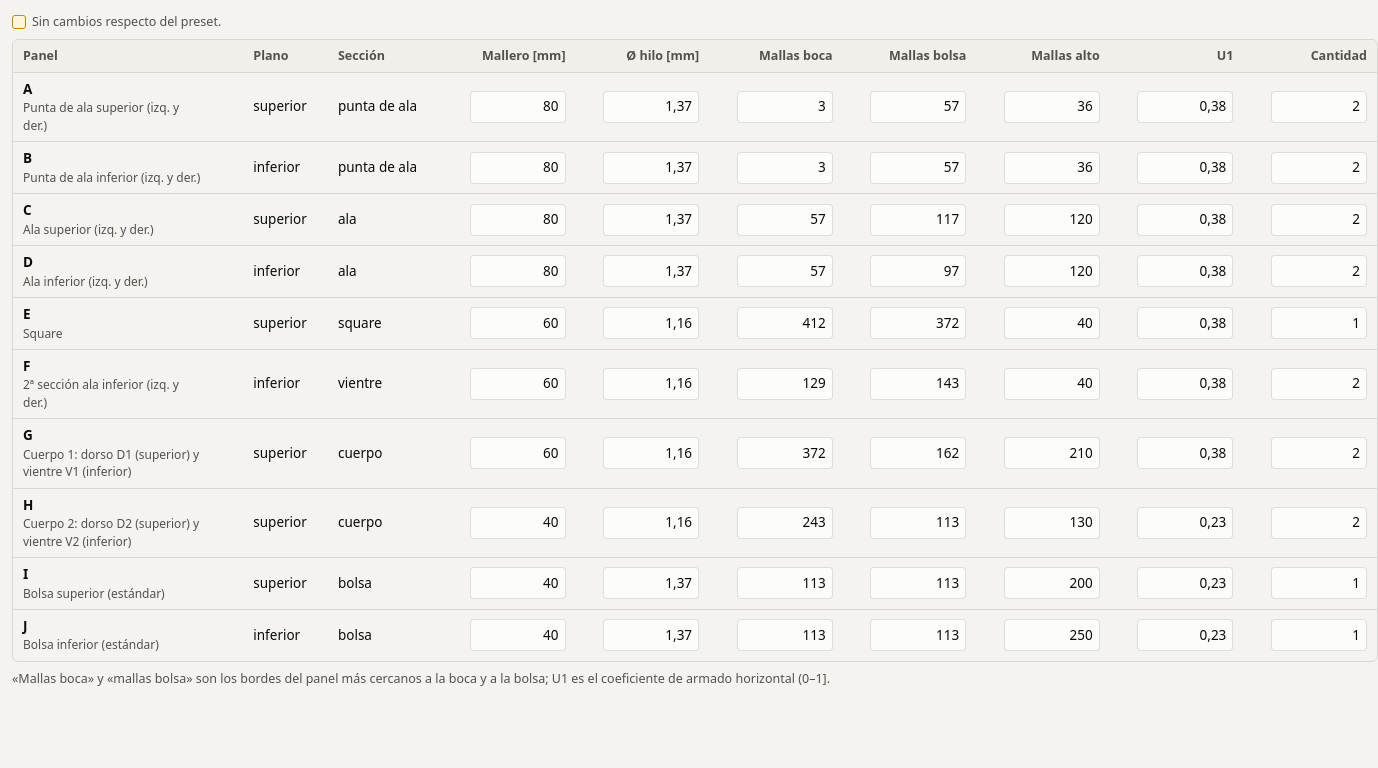
<PanelTable> › marca celdas editadas e inválidas
Step 1. Clear the field named "Mallas de alto (N) del panel C" → (1052, 220), box [1004,204,1100,236]
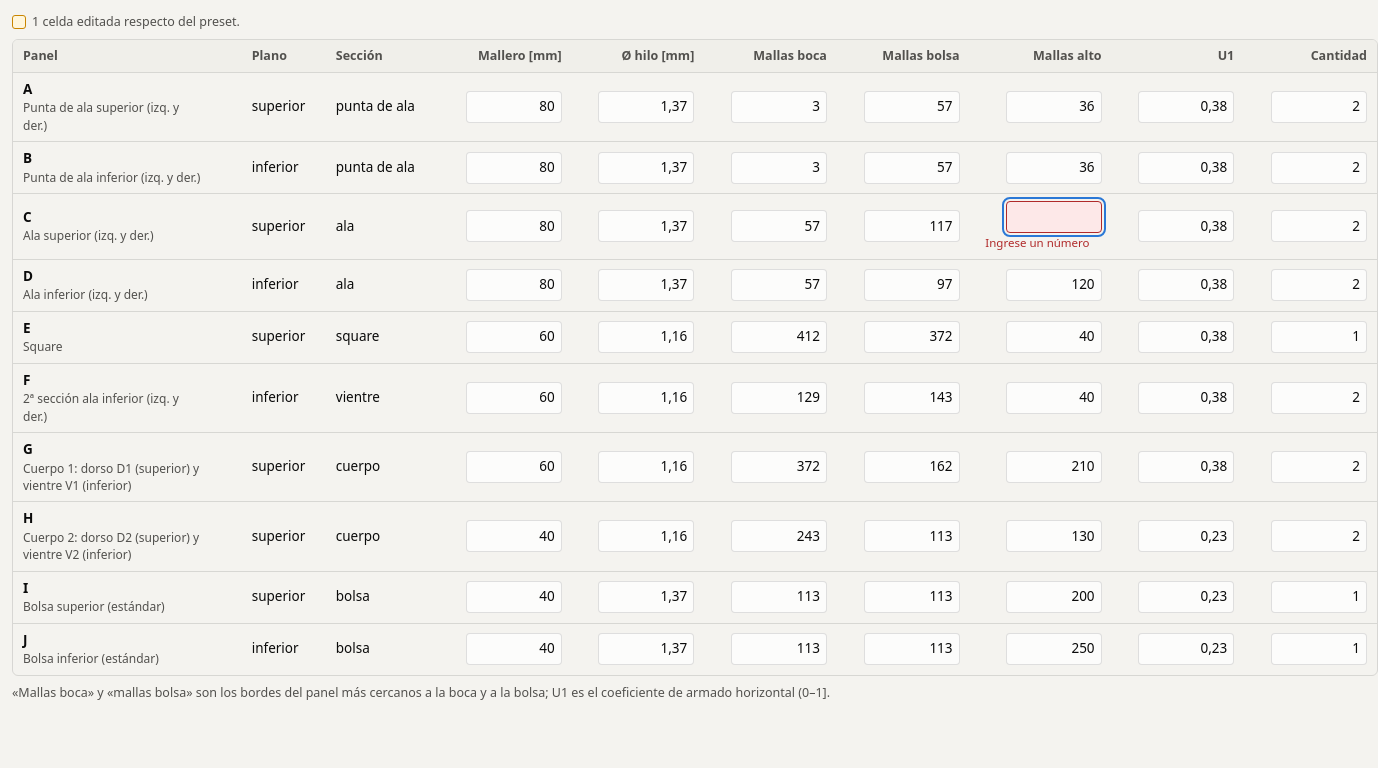
Step 2. Type "140" into the field named "Mallas de alto (N) del panel C" → (1054, 217), box [1006,201,1102,233]
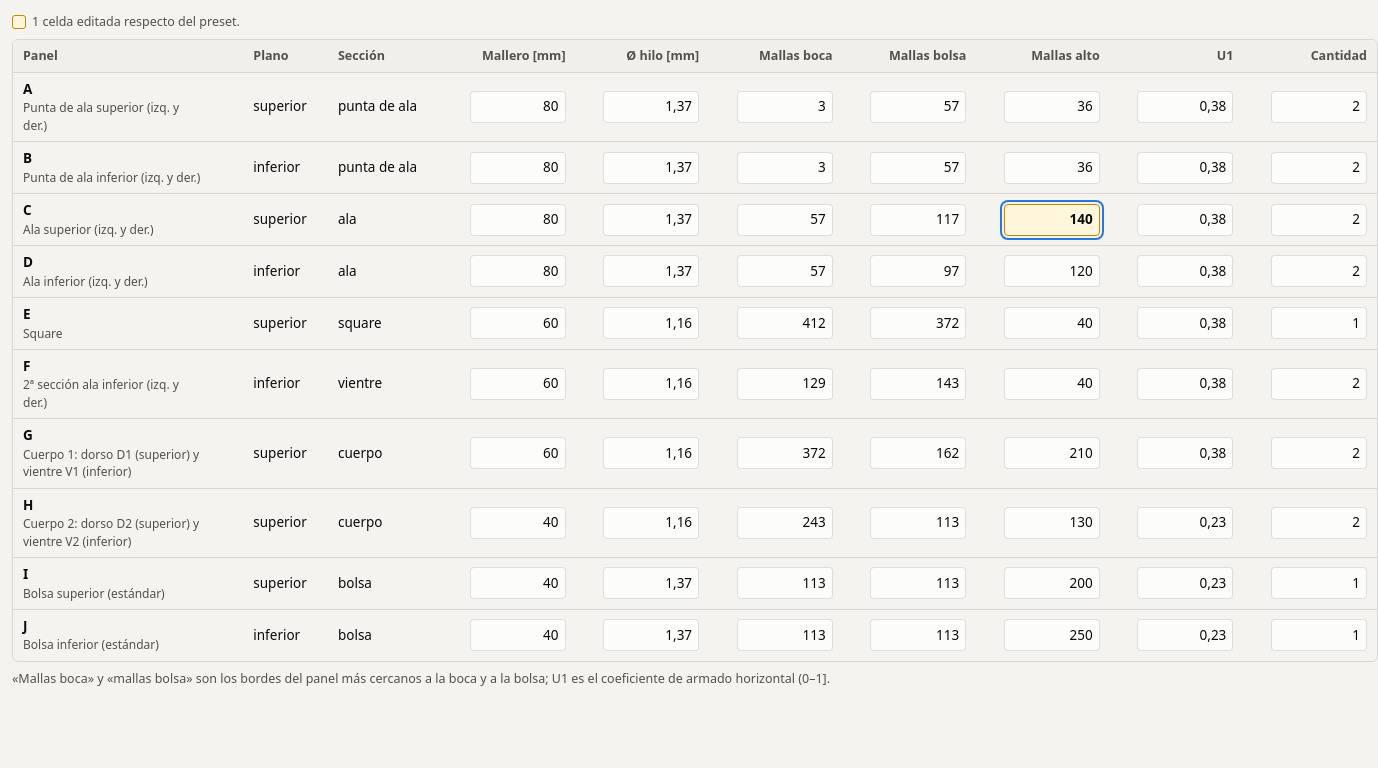
Now the text "1 celda editada respecto del preset." is shown, box [12,12,240,31]
Step 3. Clear the field named "Mallas de alto (N) del panel C" → (1052, 220), box [1004,204,1100,236]
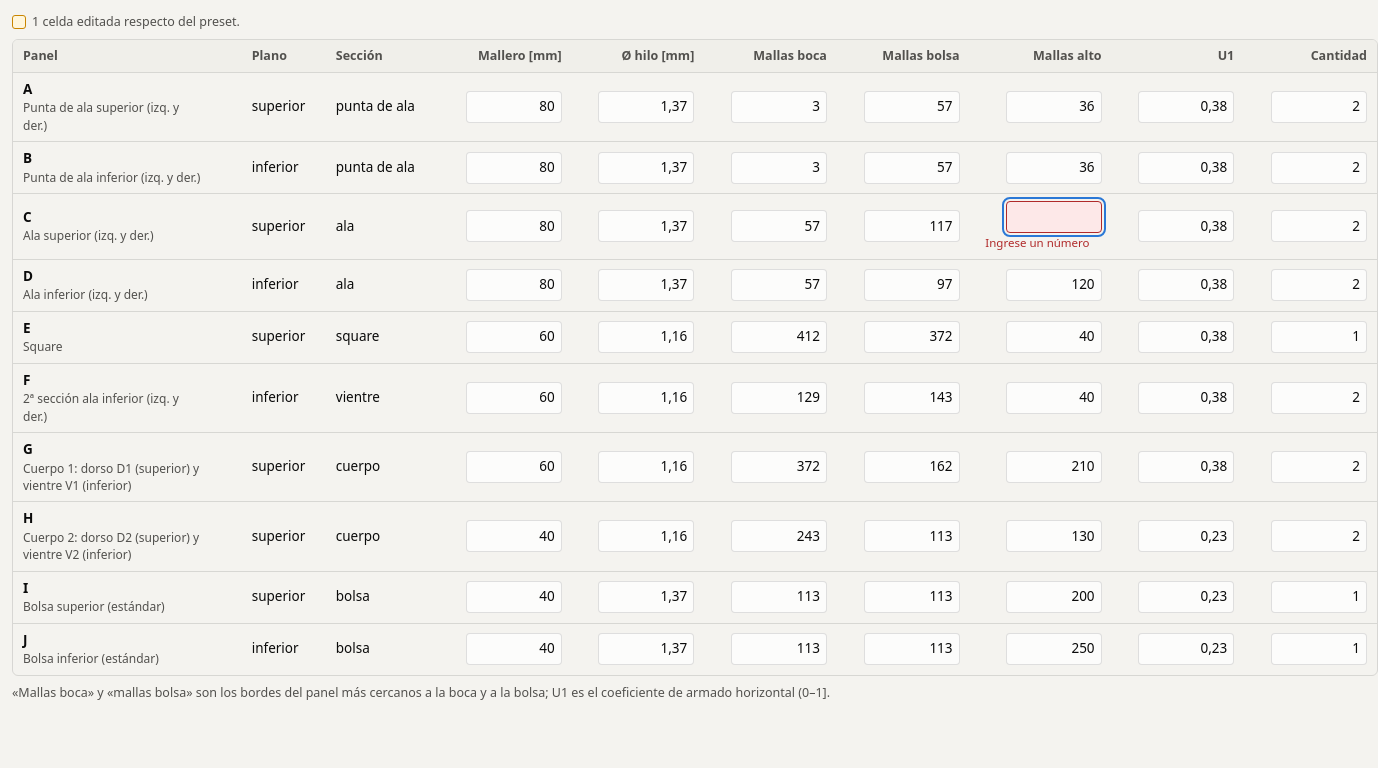
Step 4. Type "14,5" into the field named "Mallas de alto (N) del panel C" → (1054, 217), box [1006,201,1102,233]
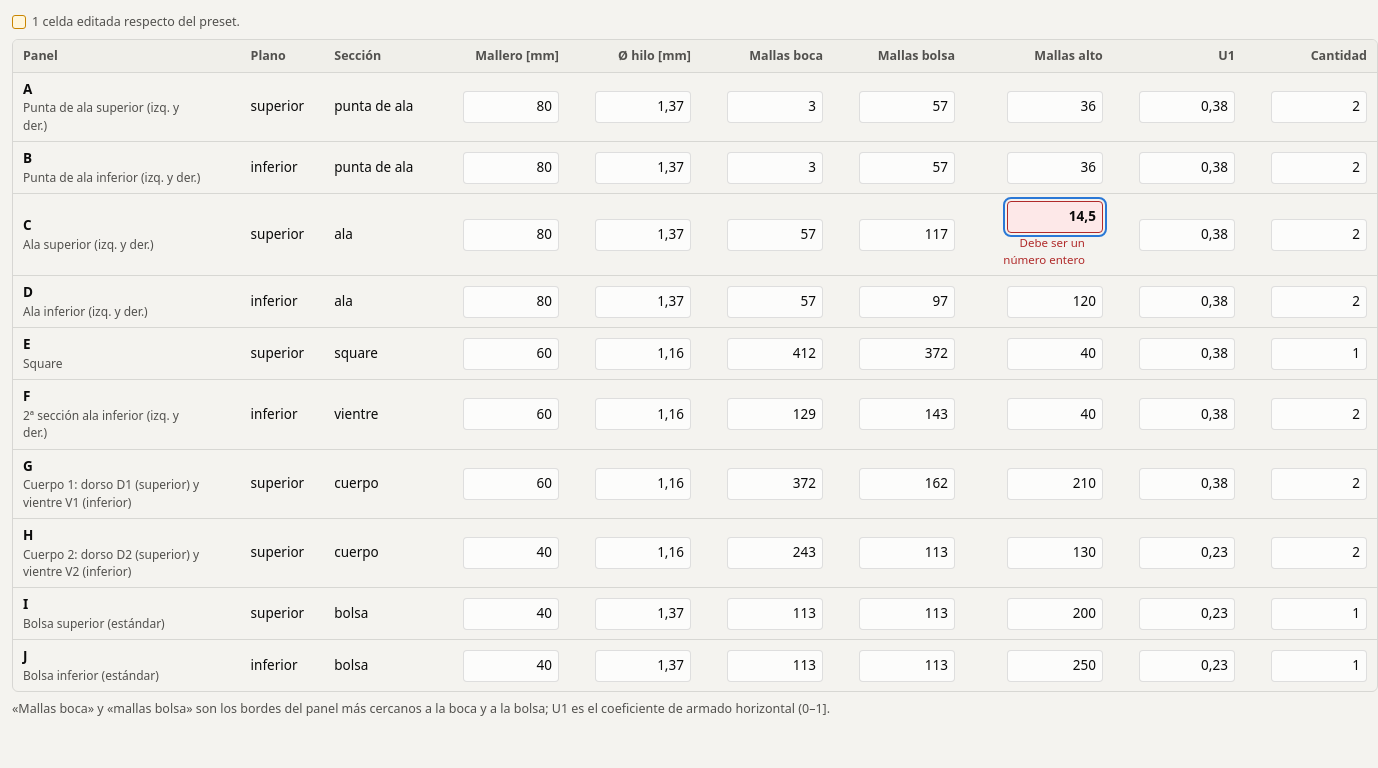
Now the field named "Mallas de alto (N) del panel C" is marked as invalid
Step 5. Clear the field named "Mallas de alto (N) del panel C" → (1055, 217), box [1007,201,1103,233]
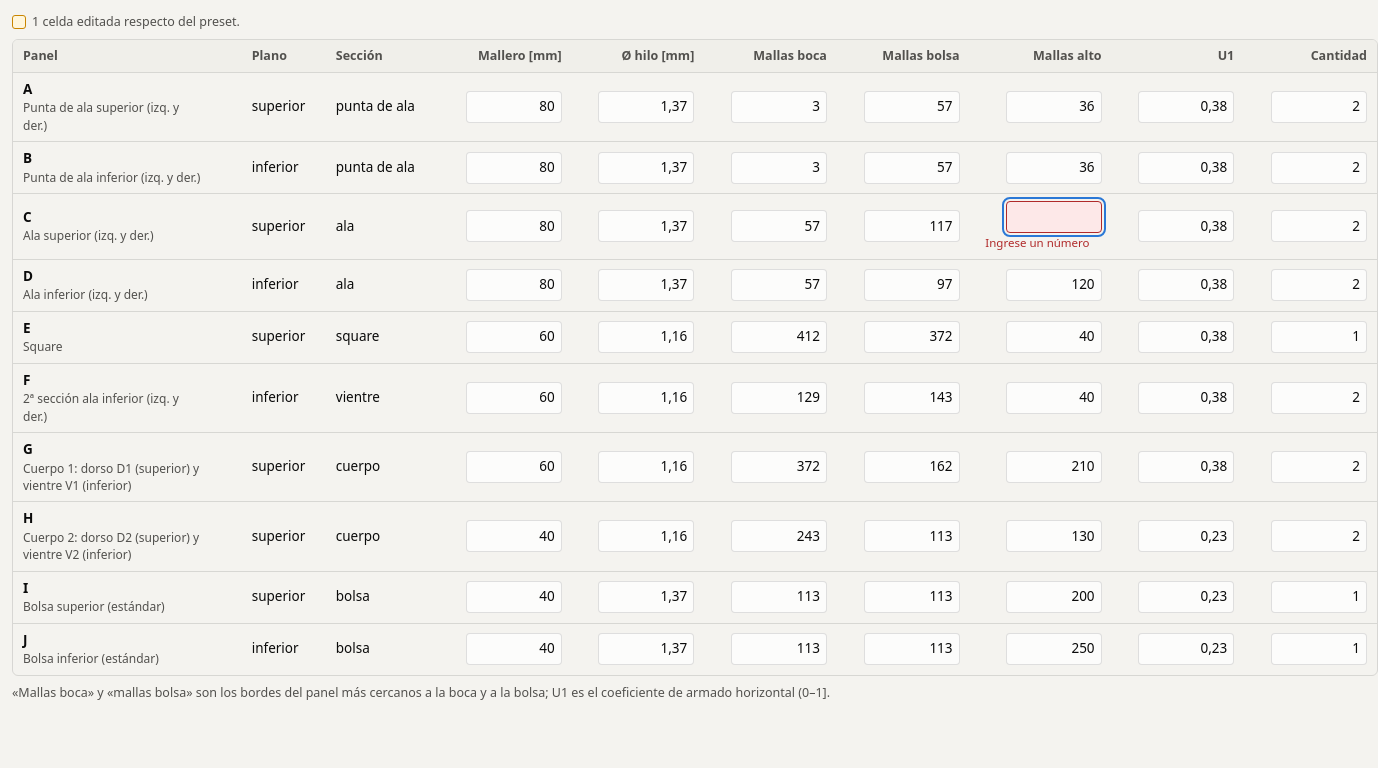
Step 6. Type "120" into the field named "Mallas de alto (N) del panel C" → (1054, 217), box [1006,201,1102,233]
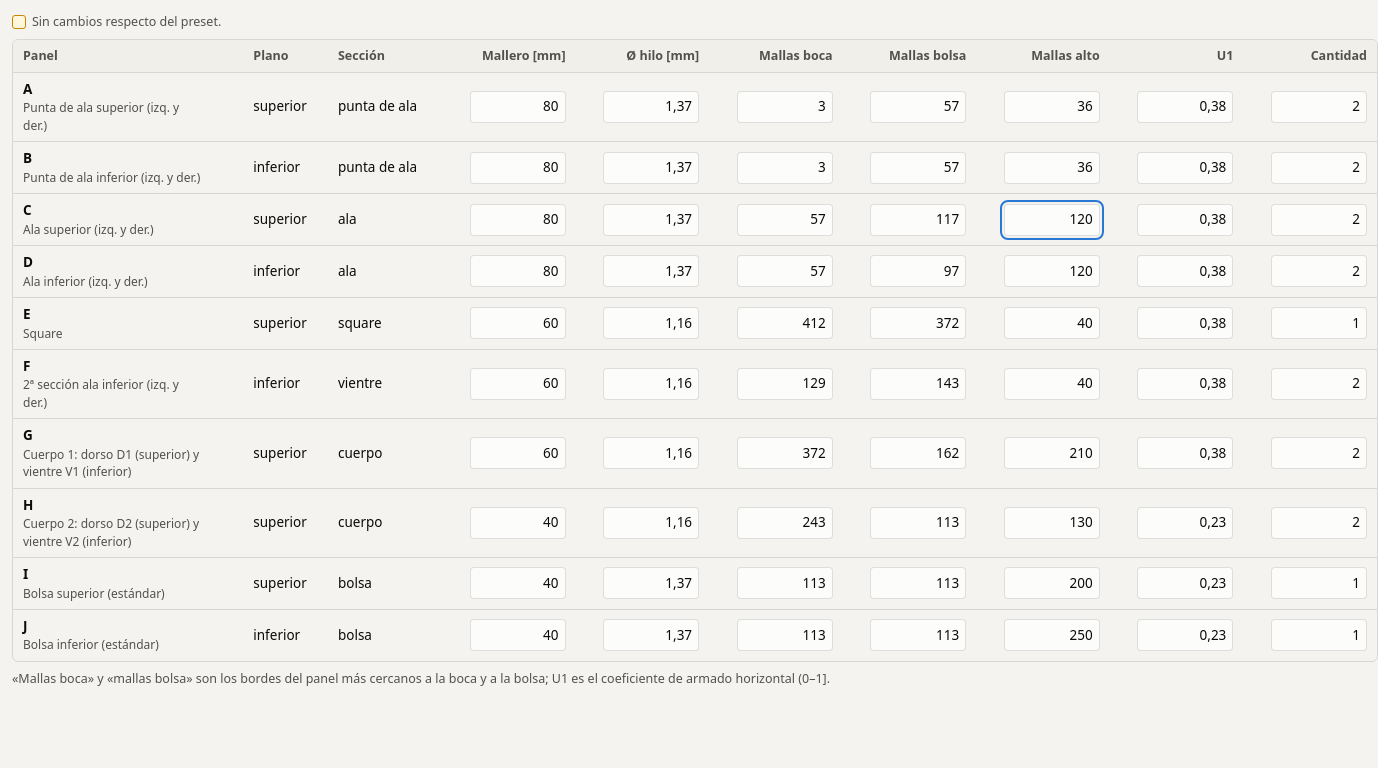
Now the text "Sin cambios respecto del preset." is shown, box [12,12,221,31]
